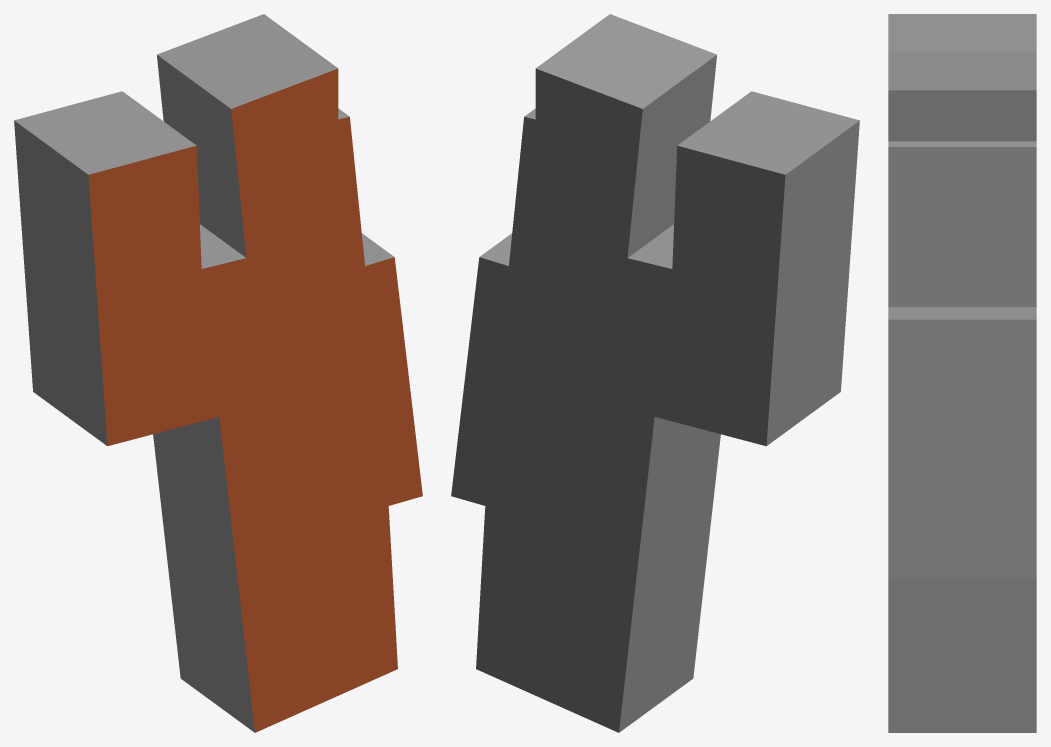
Rendered from construction_6884_assumed_A_Casa_h6m.obj.
The picture shows the model from 3 angles, left to right: view 1: azimuth 30°, elevation 25°; view 2: azimuth 150°, elevation 25°; view 3: azimuth 270°, elevation 25°; orthographic projection.
Visible parts, largest first — view 1: construction_6884_assumed_A_Casa; view 2: construction_6884_assumed_A_Casa; view 3: construction_6884_assumed_A_Casa.
Boxes of the visible parts, <box> form: construction_6884_assumed_A_Casa: <box>14,14,422,732</box>; construction_6884_assumed_A_Casa: <box>451,14,859,732</box>; construction_6884_assumed_A_Casa: <box>888,14,1036,732</box>.
Bounding box in the file's own units: 15.58 × 28.67 × 6.
